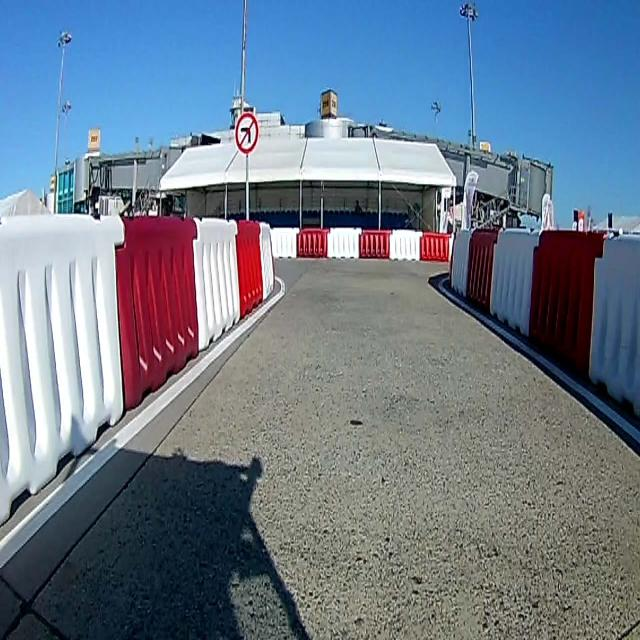soladonulmez: (236, 114, 258, 152)
